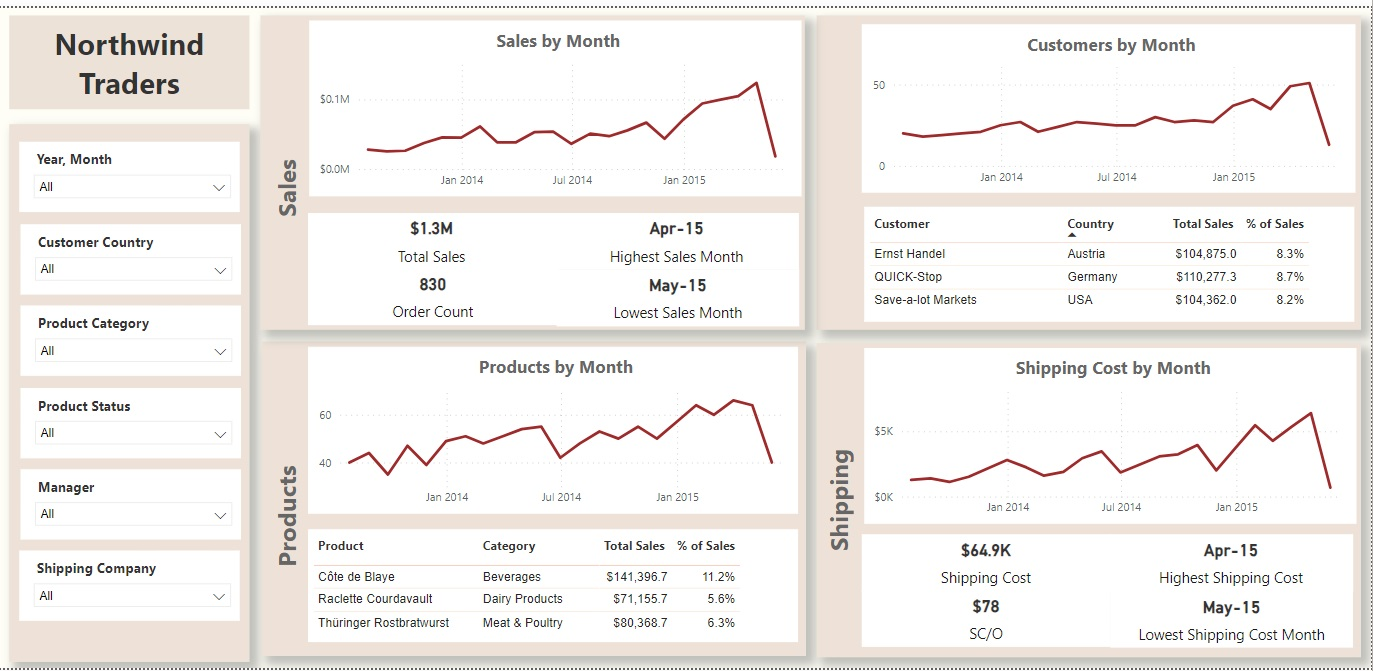

What the dashboard file says about the page in this screenshot:
{"tool":"powerbi","page":{"name":"Northwind Traders Dashboard","canvas":[1500,720],"ordinal":0},"visuals":[{"type":"group","id":"g1","title":"Group 1","box":[12.3,127,262.1,587],"z":0},{"type":"shape","box":[12.3,127,262.1,587],"z":0,"group":"g1"},{"type":"shape","box":[893.5,365.5,594.1,343.5],"z":0,"group":"g5"},{"type":"shape","box":[287.3,8.6,594.1,343.5],"z":1000,"group":"g4"},{"type":"shape","box":[893.6,8.6,594.1,343.5],"z":1000,"group":"g2"},{"type":"shape","box":[12.3,8.2,262.1,102.4],"z":2000},{"type":"lineChart","title":"Shipping Cost by Month","fields":{"Category":["Dates.MonthYear"],"Y":["MeasuresTable.Total Shipping Cost"]},"box":[946.1,370.4,537.9,191.9],"z":2000,"group":"g5"},{"type":"lineChart","title":"Sales by Month","fields":{"Y":["MeasuresTable.total_sales"],"Category":["Dates.MonthYear"]},"box":[339.9,14.7,537.9,191.9],"z":3000,"group":"g4"},{"type":"shape","box":[886.8,370.6,59.7,331.7],"z":3000,"group":"g5"},{"type":"shape","box":[888.7,58.7,57.3,293.5],"z":4000},{"type":"tableEx","fields":{"Values":["DimCustomers.Customer","DimCustomers.Country","MeasuresTable.Total Sales","MeasuresTable.% of Total Sales"]},"box":[946.1,217.1,535.1,125.6],"z":5000,"group":"g2"},{"type":"lineChart","title":"Customers by Month","fields":{"Category":["Dates.MonthYear"],"Y":["MeasuresTable.total_customers"]},"box":[943.3,17.8,539.2,184.3],"z":6000,"group":"g2"},{"type":"card","title":"Sales","fields":{"Values":["MeasuresTable.total_sales"]},"box":[338.6,223.9,270.3,61.4],"z":6000,"group":"g4"},{"type":"slicer","title":"Shipper Slicer","fields":{"Values":["FACT_orders.ShippersCompany"]},"box":[23.2,592.9,240.8,77],"z":6000,"group":"g1"},{"type":"shape","box":[288.1,364.1,594,342.8],"z":7000,"group":"g3"},{"type":"card","title":"Orders","fields":{"Values":["MeasuresTable.total_orders"]},"box":[338.6,284,273,62.8],"z":8000,"group":"g4"},{"type":"shape","box":[286,400.3,57.3,307.2],"z":8000,"group":"g3"},{"type":"slicer","title":"Status Slicer","fields":{"Values":["DimProducts.status"]},"box":[24.5,414.4,240.8,77],"z":8000,"group":"g1"},{"type":"shape","box":[293.5,46.5,42.3,300.3],"z":9000,"group":"g4"},{"type":"slicer","title":"Category Slicer","fields":{"Values":["Dimproducts.categoryName"]},"box":[24.5,325.2,240.8,77],"z":9000,"group":"g1"},{"type":"tableEx","fields":{"Values":["DimProducts.Product Name","DimProducts.Category","MeasuresTable.Total Sales","MeasuresTable.% of Total Sales"]},"box":[339.2,568.3,535.1,122.9],"z":9000,"group":"g3"},{"type":"card","title":"Highest sales Month","fields":{"Values":["MeasuresTable.Highest Sales Month"]},"box":[607.5,223.9,267.6,61.4],"z":10000,"group":"g4"},{"type":"lineChart","title":"Products by Month","fields":{"Category":["Dates.MonthYear"],"Y":["MeasuresTable.Total Produucts"]},"box":[338.6,370,535.4,182.1],"z":10000,"group":"g3"},{"type":"slicer","title":"Manager Slicer","fields":{"Values":["DimEmployees.Manager"]},"box":[24.5,503.7,240.8,77],"z":10000,"group":"g1"},{"type":"slicer","title":"Country Slicer","fields":{"Values":["DimCustomers.country"]},"box":[24.5,236,240.8,77],"z":11000,"group":"g1"},{"type":"card","title":"Lowest sales Month","fields":{"Values":["MeasuresTable.Lowest Sales Month"]},"box":[610.2,285.4,264.8,62.8],"z":11000,"group":"g4"},{"type":"card","title":"Shipping Cost","fields":{"Values":["MeasuresTable.Total Shipping Cost"]},"box":[943.3,574.7,271.7,62.8],"z":11000,"group":"g5"},{"type":"group","id":"g2","title":"Group 3","box":[893.6,8.6,594.1,343.5],"z":12000},{"type":"slicer","title":"Year Slicer","fields":{"Values":["Dates.Date Hierarchy.Year","Dates.Date Hierarchy.YearMonth"]},"box":[23.2,146.7,240.8,77],"z":12000,"group":"g1"},{"type":"card","title":"Shipping Cost/ Order","fields":{"Values":["MeasuresTable.SC/O"]},"box":[943.3,636.1,271.7,61.4],"z":12000,"group":"g5"},{"type":"group","id":"g3","title":"Group 2","box":[286,364.1,596.1,343.4],"z":12001},{"type":"group","id":"g4","title":"Group 4","box":[287.3,8.6,594.1,343.5],"z":12002},{"type":"card","title":"Highest Shipping Cost","fields":{"Values":["MeasuresTable.Highest Shipping Cost"]},"box":[1213.6,574.7,266.2,62.8],"z":13000,"group":"g5"},{"type":"card","title":"Lowest Shipping Cost","fields":{"Values":["MeasuresTable.Lowest Shipping Cost Month"]},"box":[1214.9,636.1,264.8,62.8],"z":14000,"group":"g5"},{"type":"group","id":"g5","title":"Group 5","box":[886.8,365.5,600.8,343.5],"z":14001}]}

Visuals, with their boxes in screenshot pixels (x1, y1, x2, y2), scaled from the page's 1500x720 canvas onto the 1373x671 screenshot:
"Group 1" group: crop(11, 118, 251, 665)
shape: crop(11, 118, 251, 665)
shape: crop(818, 341, 1362, 661)
shape: crop(263, 8, 807, 328)
shape: crop(818, 8, 1362, 328)
shape: crop(11, 8, 251, 103)
"Shipping Cost by Month" lineChart: crop(866, 345, 1358, 524)
"Sales by Month" lineChart: crop(311, 14, 803, 193)
shape: crop(812, 345, 866, 655)
shape: crop(813, 55, 866, 328)
tableEx - DimCustomers.Customer x DimCustomers.Country: crop(866, 202, 1356, 319)
"Customers by Month" lineChart: crop(863, 17, 1357, 188)
"Sales" card: crop(310, 209, 557, 266)
"Shipper Slicer" slicer: crop(21, 553, 242, 624)
shape: crop(264, 339, 807, 659)
"Orders" card: crop(310, 265, 560, 323)
shape: crop(262, 373, 314, 659)
"Status Slicer" slicer: crop(22, 386, 243, 458)
shape: crop(269, 43, 307, 323)
"Category Slicer" slicer: crop(22, 303, 243, 375)
tableEx - DimProducts.Product Name x DimProducts.Category: crop(310, 530, 800, 644)
"Highest sales Month" card: crop(556, 209, 801, 266)
"Products by Month" lineChart: crop(310, 345, 800, 515)
"Manager Slicer" slicer: crop(22, 469, 243, 541)
"Country Slicer" slicer: crop(22, 220, 243, 292)
"Lowest sales Month" card: crop(559, 266, 801, 325)
"Shipping Cost" card: crop(863, 536, 1112, 594)
"Group 3" group: crop(818, 8, 1362, 328)
"Year Slicer" slicer: crop(21, 137, 242, 208)
"Shipping Cost/ Order" card: crop(863, 593, 1112, 650)
"Group 2" group: crop(262, 339, 807, 659)
"Group 4" group: crop(263, 8, 807, 328)
"Highest Shipping Cost" card: crop(1111, 536, 1355, 594)
"Lowest Shipping Cost" card: crop(1112, 593, 1354, 651)
"Group 5" group: crop(812, 341, 1362, 661)
